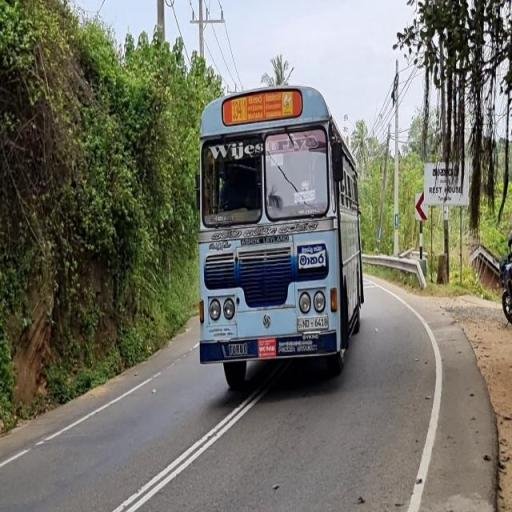double_white_line: (110, 386, 272, 510)
